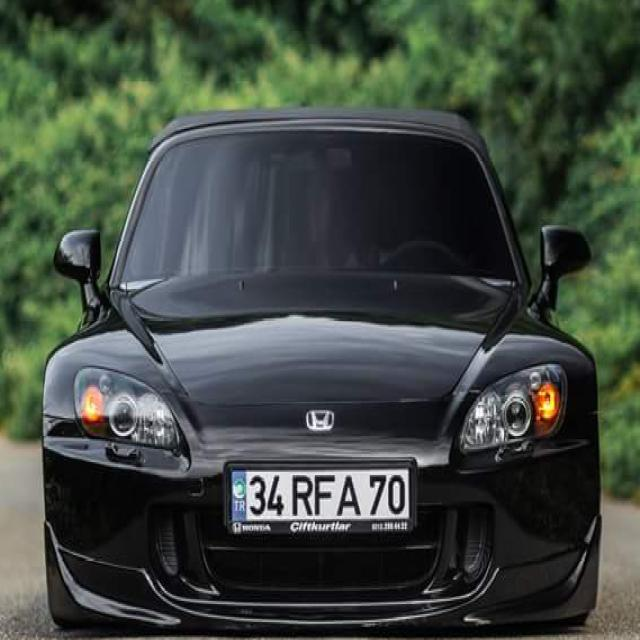license_plate: (228, 462, 413, 526)
